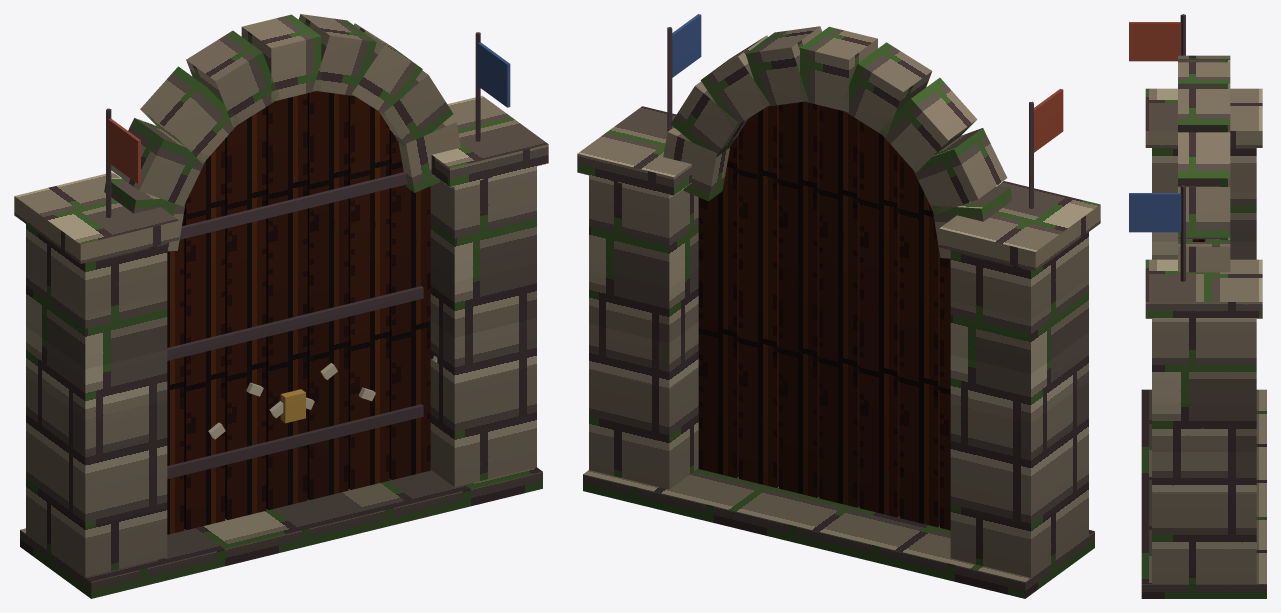
Rendered from district_gate.glb.
3 renders of one model, left to right at view 1: azimuth 30°, elevation 25°; view 2: azimuth 150°, elevation 25°; view 3: azimuth 270°, elevation 25°, orthographic. The views are drawn at different scales.
Parts seen in each view (by area): view 1: district_gate; view 2: district_gate; view 3: district_gate.
Boxes of the visible parts, x1,y1,x2,y2 form: district_gate: (14,14,548,598); district_gate: (577,14,1100,598); district_gate: (1129,14,1266,598).
Size of the model in its own units: 4.56 by 4.53 by 1.32.
Materials: 3 (2 with a texture image).
